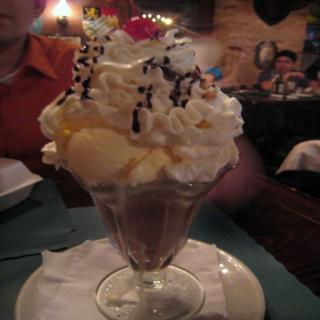Ice cream: (32, 28, 245, 186)
